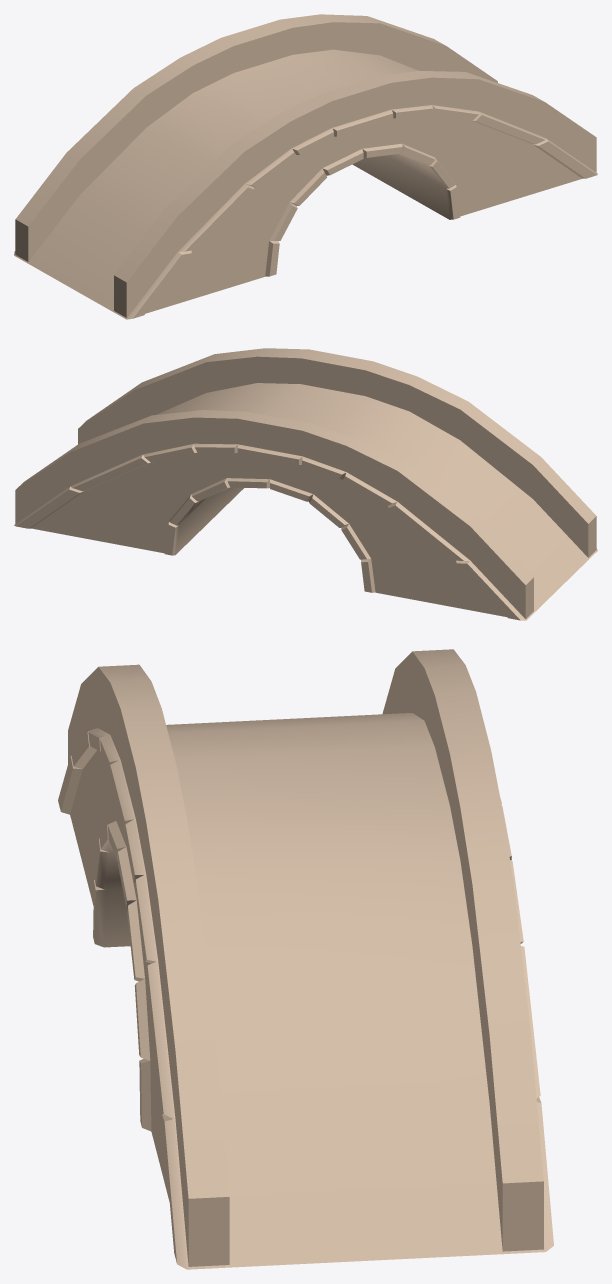
The model's file is AkropolisBrueckeUnten.fbx.
3 views of the same model, one above another, from view 1: azimuth 30°, elevation 25°; view 2: azimuth 150°, elevation 25°; view 3: azimuth 270°, elevation 25° (orthographic). The views are drawn at different scales.
Visible parts, largest first — view 1: AkropolisBrückeUnten; view 2: AkropolisBrückeUnten; view 3: AkropolisBrückeUnten.
Part boxes in pixels (left/top/right/bottom): AkropolisBrückeUnten: left=14, top=14, right=597, bottom=319; AkropolisBrückeUnten: left=14, top=348, right=597, bottom=620; AkropolisBrückeUnten: left=58, top=649, right=553, bottom=1269.
Size of the model in its own units: 26.02 by 7.36 by 11.18.
